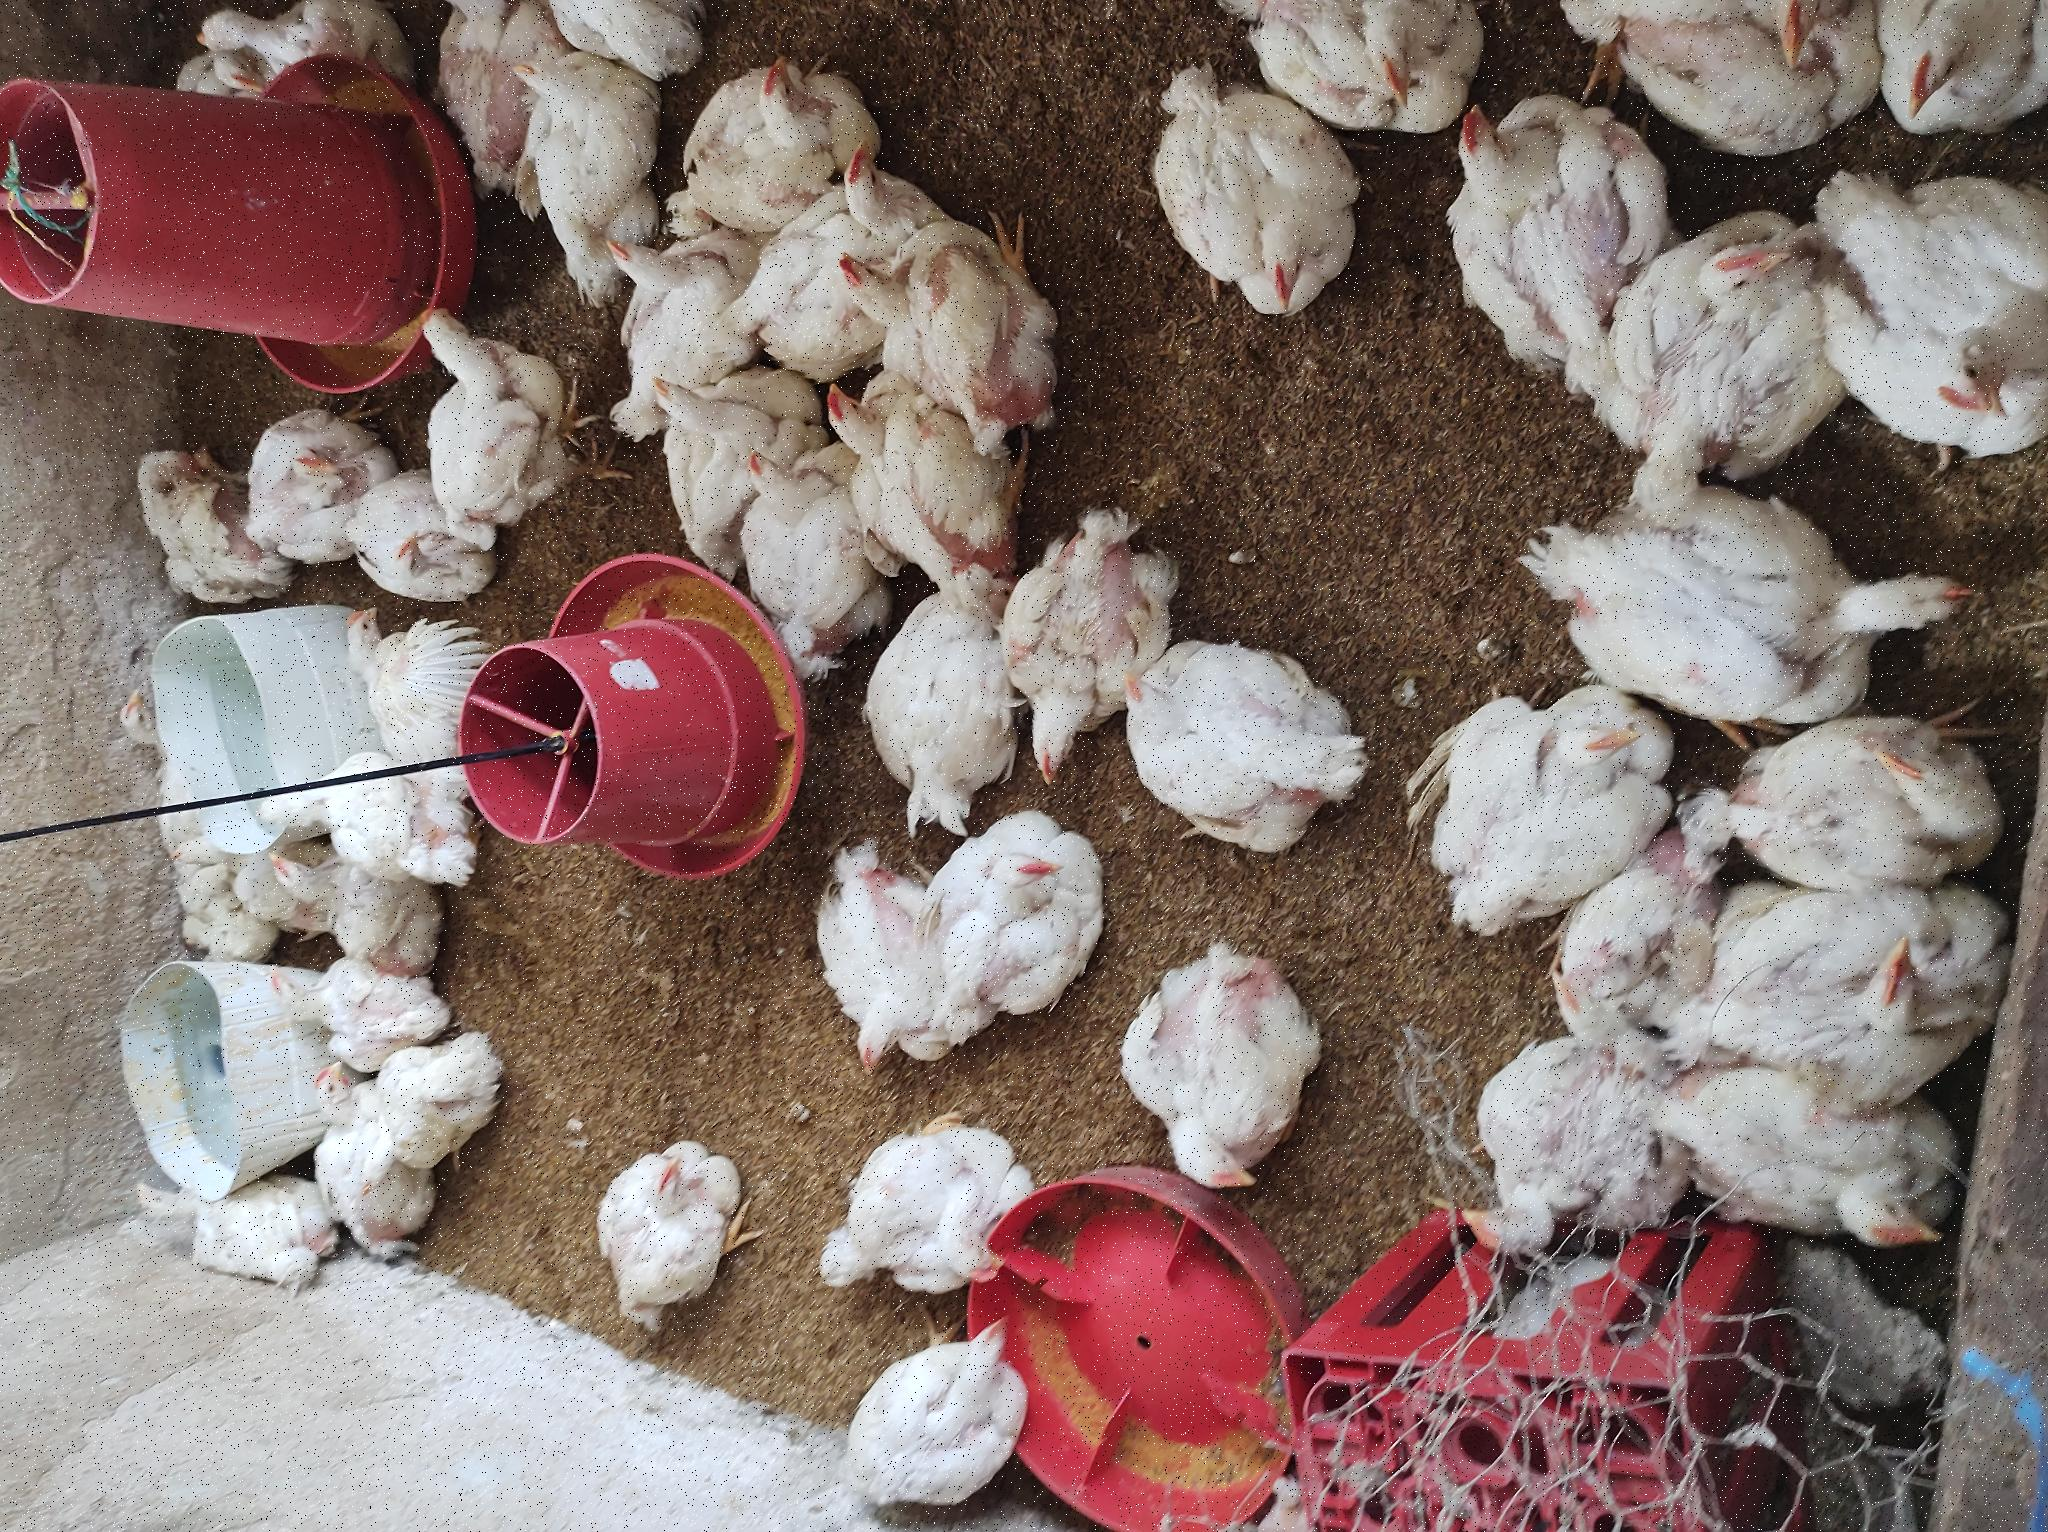Pollos: (331, 1123, 595, 1357), (669, 1133, 906, 1374), (1203, 1143, 1440, 1349), (228, 809, 444, 1033), (692, 867, 965, 1020), (188, 581, 402, 772), (8, 850, 219, 1043), (512, 957, 730, 1133), (745, 1020, 1023, 1155), (977, 817, 1160, 974), (1041, 414, 1229, 563), (607, 1419, 853, 1532), (459, 813, 664, 940), (240, 130, 368, 332), (1364, 409, 1533, 562), (1171, 1439, 1430, 1532), (1310, 518, 1480, 660), (661, 249, 767, 467), (931, 134, 1108, 262), (1417, 1299, 1530, 1495), (327, 352, 467, 507), (783, 336, 925, 488), (1347, 689, 1490, 826), (983, 240, 1117, 360), (1051, 653, 1170, 760), (940, 362, 1031, 484), (496, 270, 579, 404), (1195, 603, 1305, 705), (960, 740, 1091, 816), (1297, 816, 1393, 912), (616, 266, 701, 336), (1207, 829, 1282, 908), (1469, 196, 1533, 282), (402, 299, 479, 360), (648, 161, 713, 225), (1425, 212, 1495, 269), (775, 121, 864, 159)
